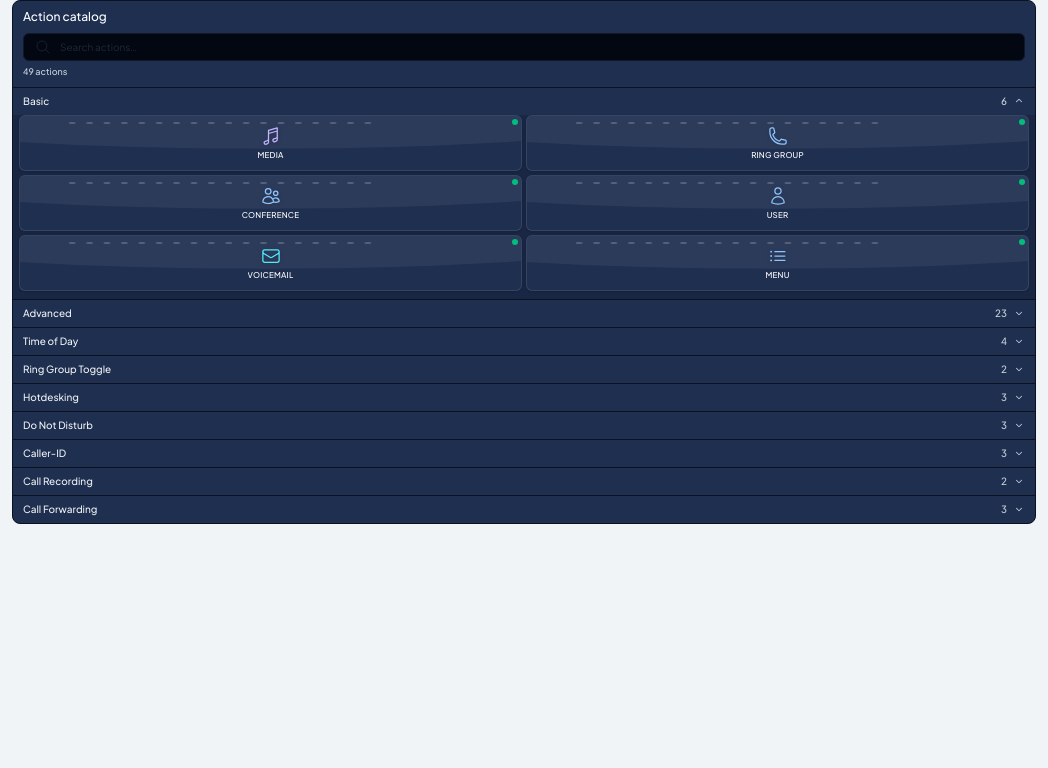
Test: CallflowActionPalette › keeps supported current-schema compatibility actions search-only
Expected: the text "Branch Bnumber" is not shown
Type "Branch Bnumber" into the search field with placeholder "Search actions…" at (524, 47), box 23,33 -> 1025,61
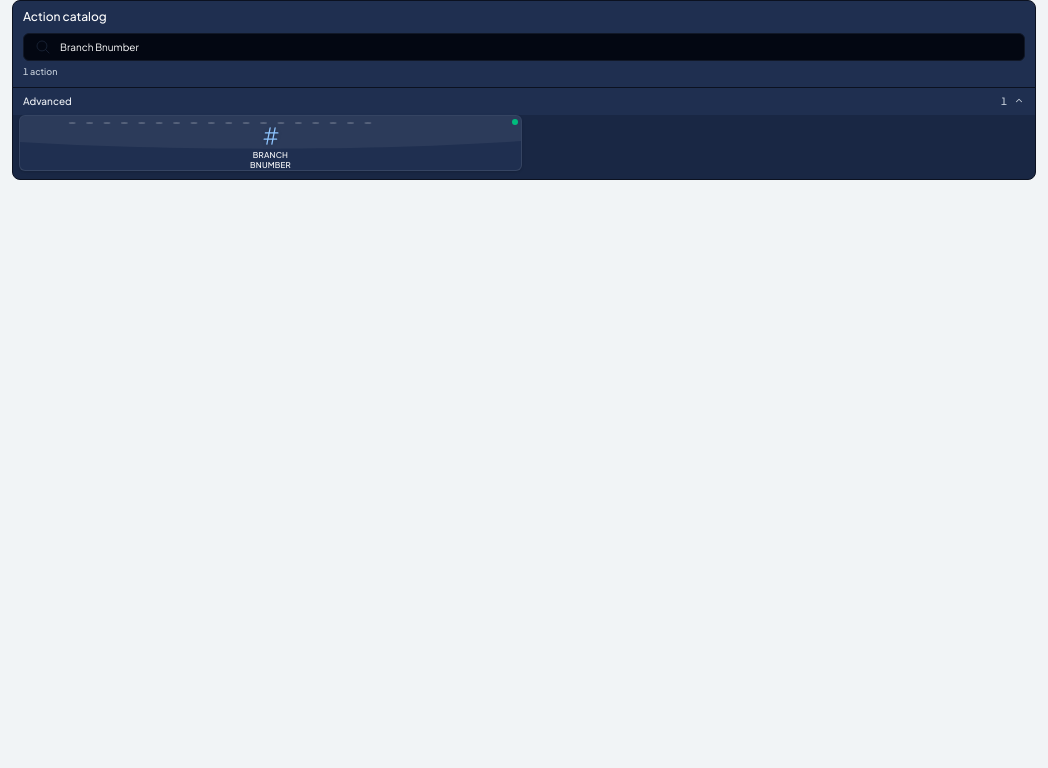
Result: the text "Branch Bnumber" is shown at 250,150 -> 291,170
Result: the button with aria-label "Add Branch Bnumber" is shown at 19,114 -> 522,170
